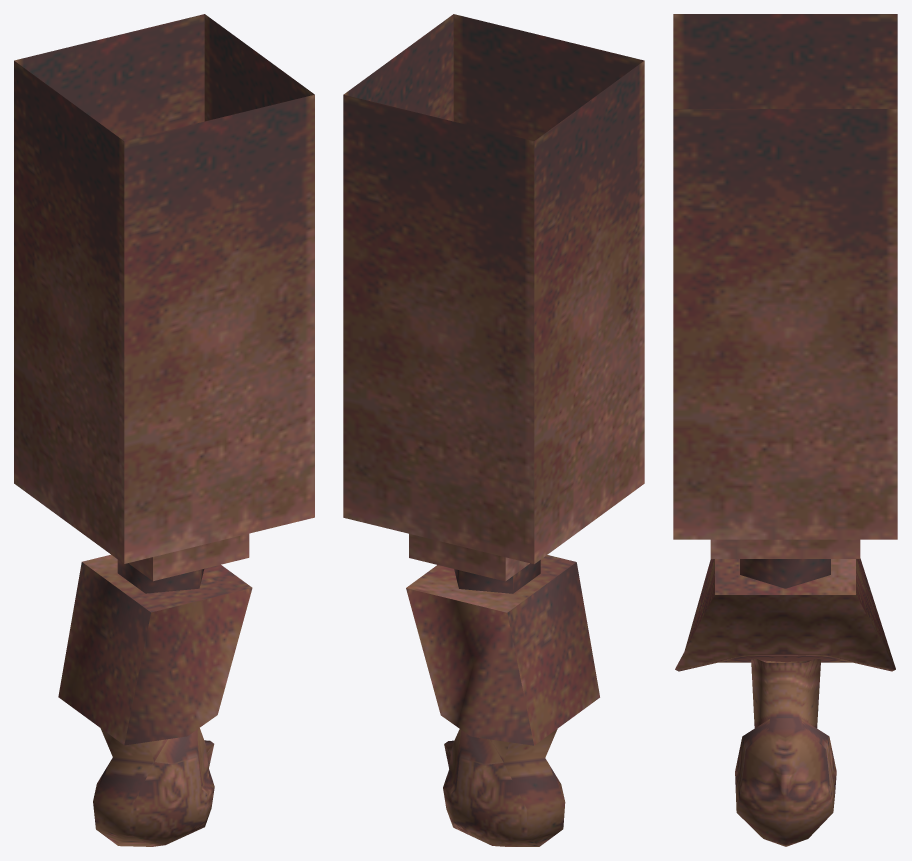
File: ROOM10C0_model02_emdui.obj
3 views of the same model, side by side, from view 1: azimuth 30°, elevation 25°; view 2: azimuth 150°, elevation 25°; view 3: azimuth 270°, elevation 25° (orthographic).
Parts seen in each view (by area): view 1: part_00; view 2: part_00; view 3: part_00.
Part boxes in pixels (bbox=[...]): part_00: bbox=[14, 14, 314, 846]; part_00: bbox=[343, 14, 644, 846]; part_00: bbox=[673, 14, 897, 846].
Bounding box in the file's own units: 0.858 × 3.29 × 0.858.
Materials: 1 (1 with a texture image).
